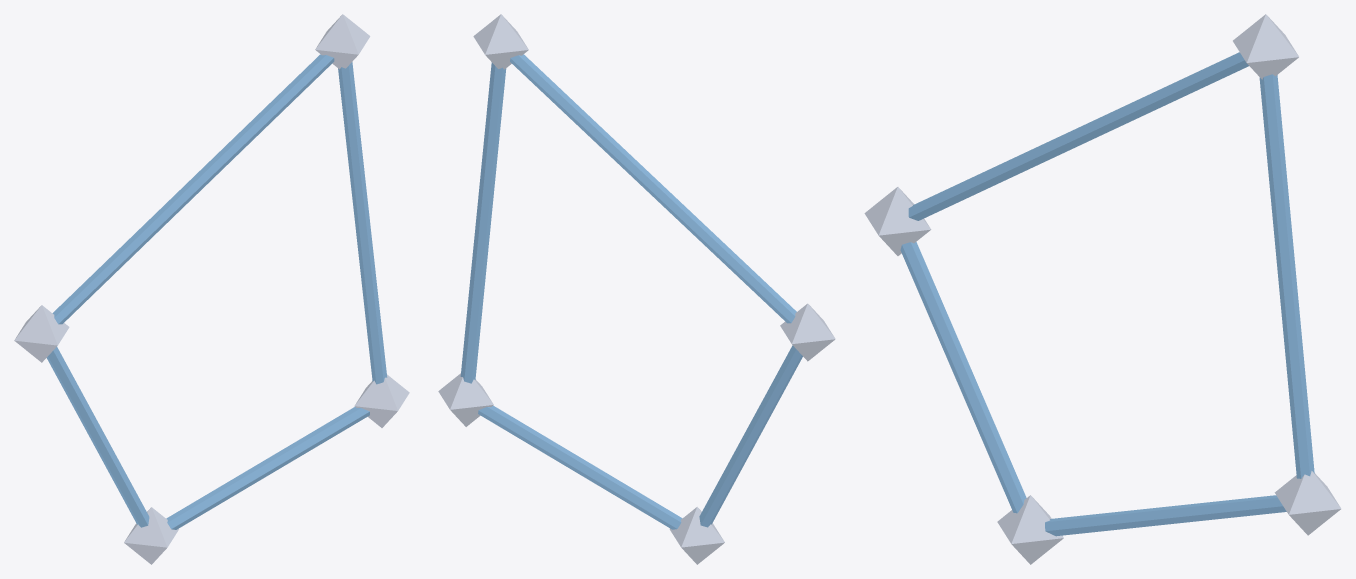
The model's file is constellation-nor.glb.
The picture shows the model from 3 angles, left to right: view 1: azimuth 30°, elevation 25°; view 2: azimuth 150°, elevation 25°; view 3: azimuth 330°, elevation 25°; orthographic projection. The views are drawn at different scales.
Bounding box in the file's own units: 0.485 × 0.5887 × 0.0727.
